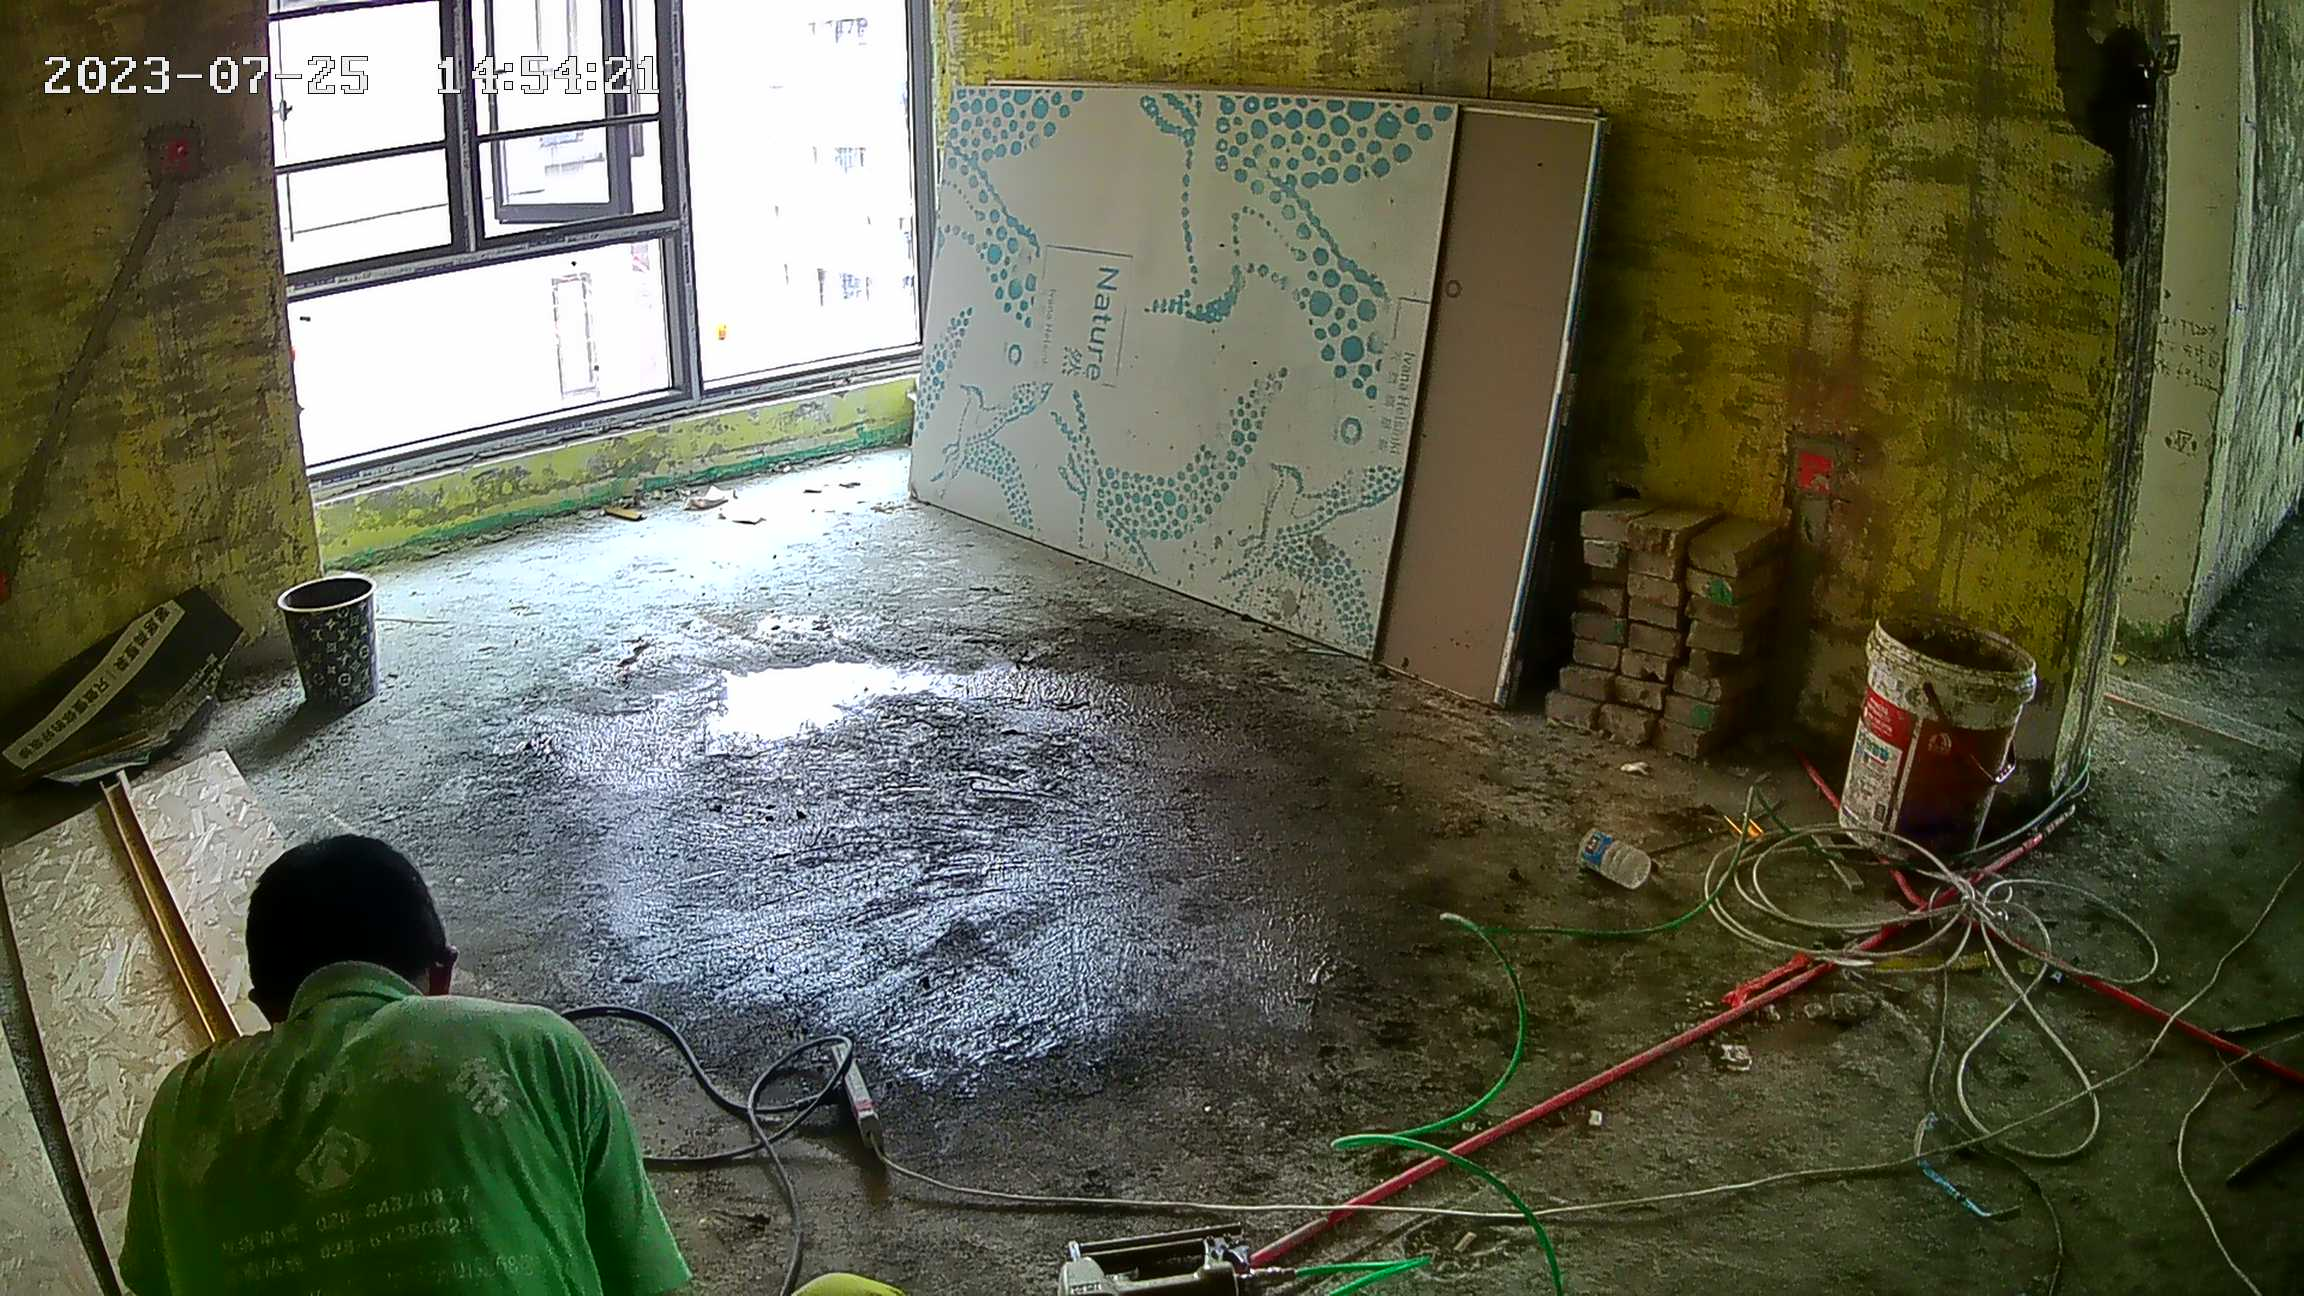people: (111, 837, 696, 1295)
window: (301, 1, 917, 503)
